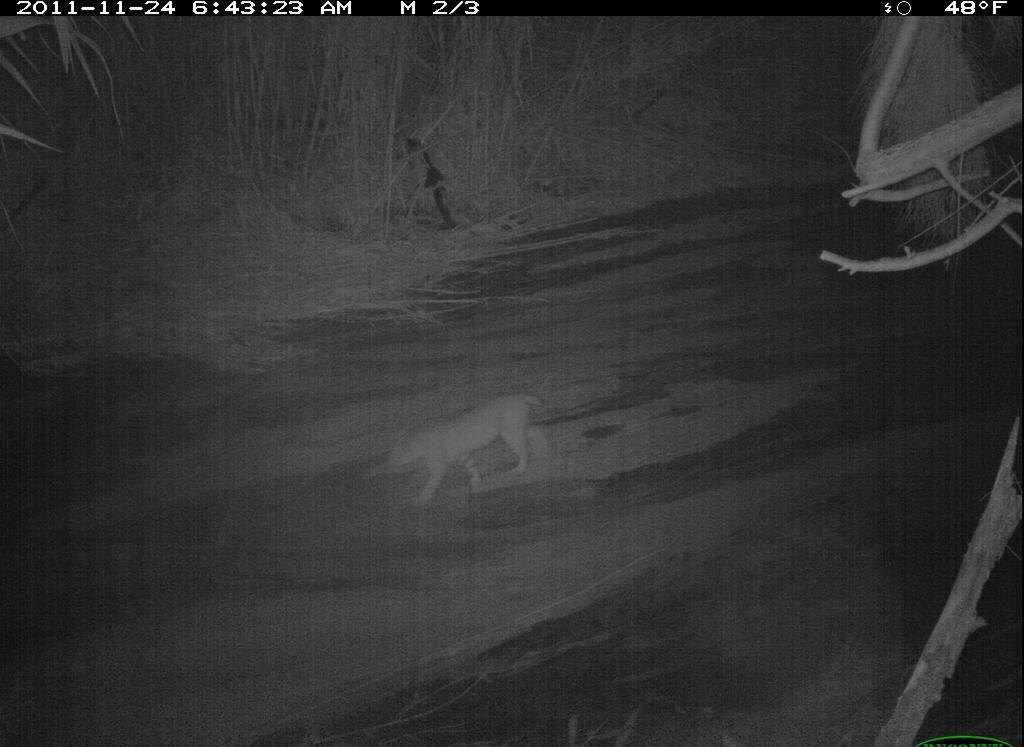bobcat: (383, 382, 566, 514)
